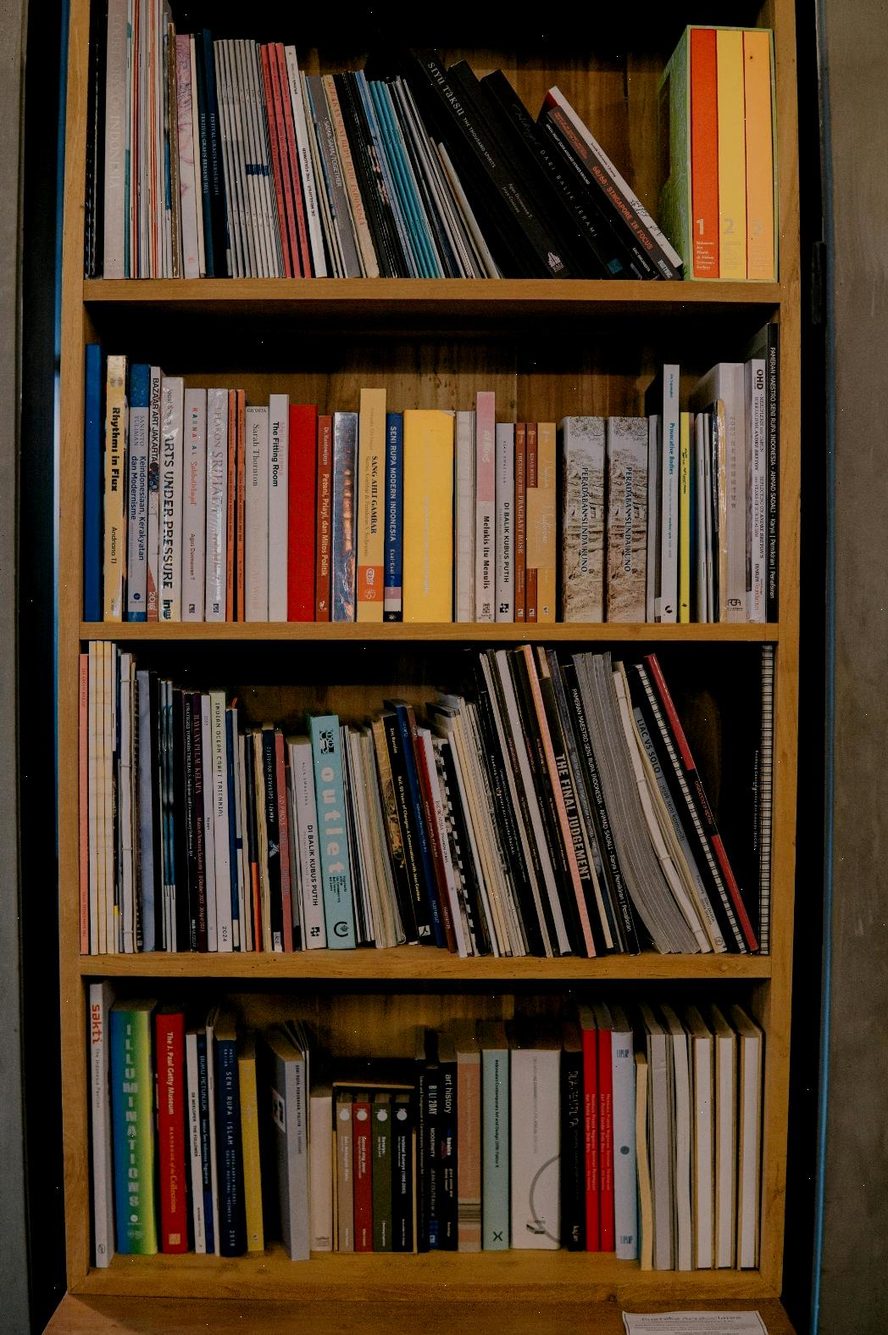book: (378, 699, 440, 952), (509, 1018, 560, 1253), (153, 991, 192, 1253), (290, 747, 332, 948), (607, 998, 637, 1260), (479, 1022, 511, 1255), (215, 1008, 245, 1254), (357, 391, 388, 622), (452, 1026, 481, 1255), (102, 356, 127, 621), (236, 1023, 264, 1255), (526, 422, 557, 625), (559, 1018, 585, 1254), (182, 390, 208, 622), (211, 693, 234, 951), (158, 378, 182, 621), (204, 389, 229, 621), (330, 410, 357, 623), (746, 359, 767, 624), (435, 1030, 459, 1253), (261, 720, 284, 948), (244, 405, 268, 622), (474, 390, 496, 625), (267, 393, 289, 623), (452, 410, 475, 624), (121, 653, 135, 951), (494, 419, 514, 622), (147, 370, 163, 617), (384, 414, 403, 621), (423, 1035, 441, 1251), (413, 1025, 429, 1249), (334, 1090, 354, 1253), (89, 642, 99, 955), (513, 424, 528, 623)
